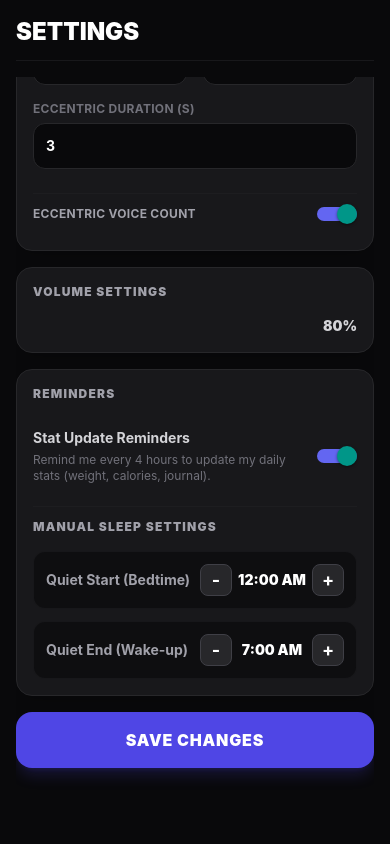
Scenario: SettingsModal › manual sleep window › wraps bedtime backward past midnight
This screenshot has width=390, height=844.
(page scrolled)
Click the element with test id "sleep-start-minus" at (216,580), box [200,564,232,596]
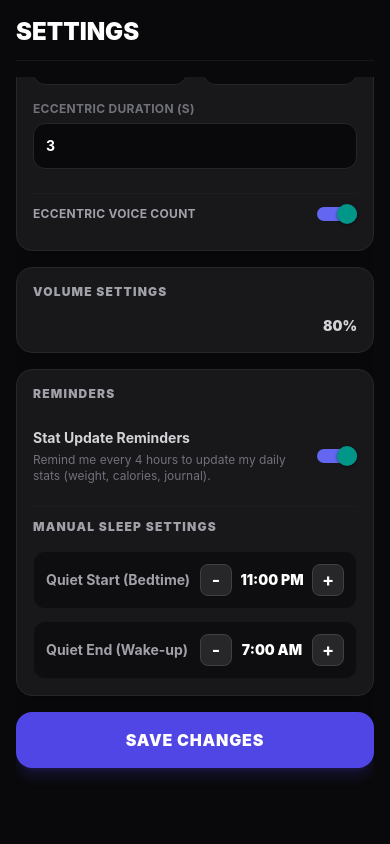
Expected: the text with test id "sleep-start-text" reads "11:00 PM", [240,571,304,588]
